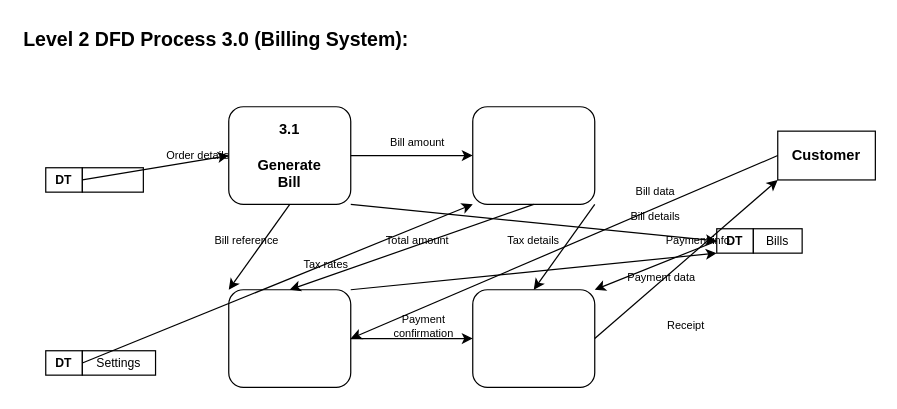
Some shapes in this 897 by 409 pixel diagram are drawn without their labels. Each missing label, with the box of its shape:
3.2 Calculate Taxes: (472, 106, 595, 204)
3.3 Process Payment: (228, 289, 351, 387)
3.4 Print Receipt: (472, 289, 595, 387)
Orders: (81, 167, 143, 192)
